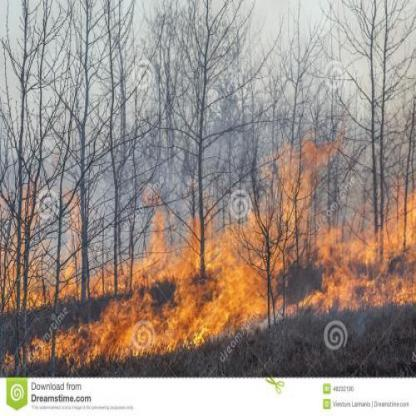fire: (0, 151, 415, 363)
